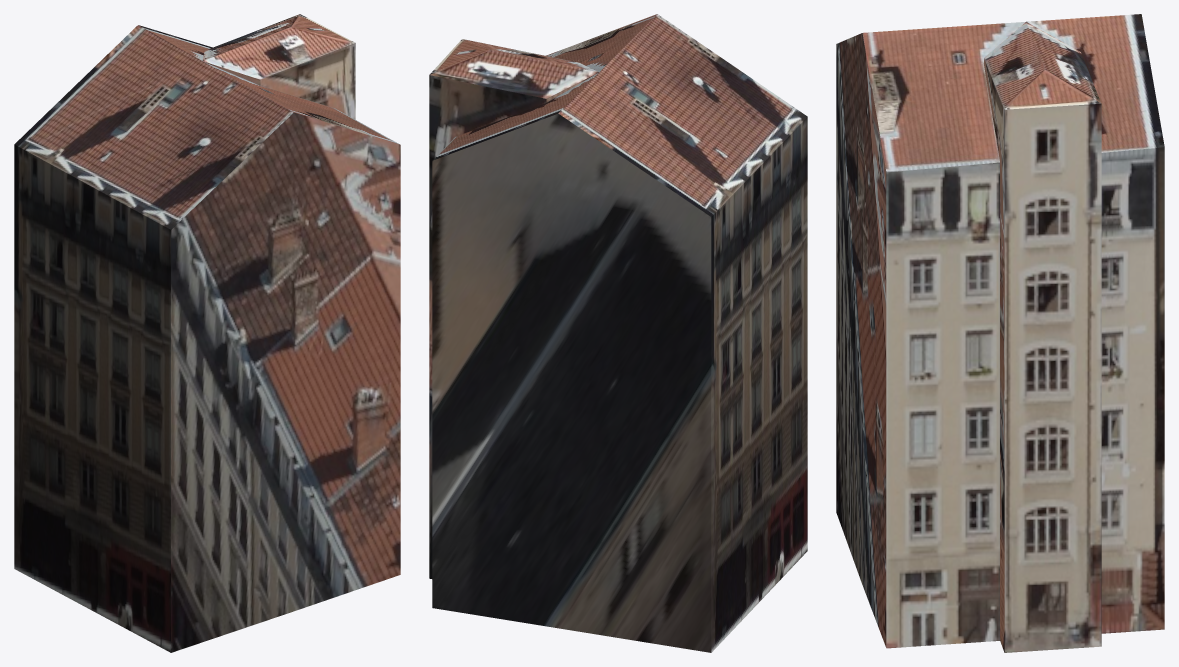
3 views of the same model, side by side, from view 1: azimuth 30°, elevation 25°; view 2: azimuth 150°, elevation 25°; view 3: azimuth 270°, elevation 25° (orthographic). The views are drawn at different scales.
Visible parts, largest first — view 1: Z_UP; view 2: Z_UP; view 3: Z_UP.
Part boxes in pixels (x1,y1,x2,y2): Z_UP: [14, 14, 400, 652]; Z_UP: [429, 14, 807, 652]; Z_UP: [836, 14, 1164, 652].
Bounding box in the file's own units: 16.23 × 26.8 × 14.29.
Materials: 2 (1 with a texture image).
